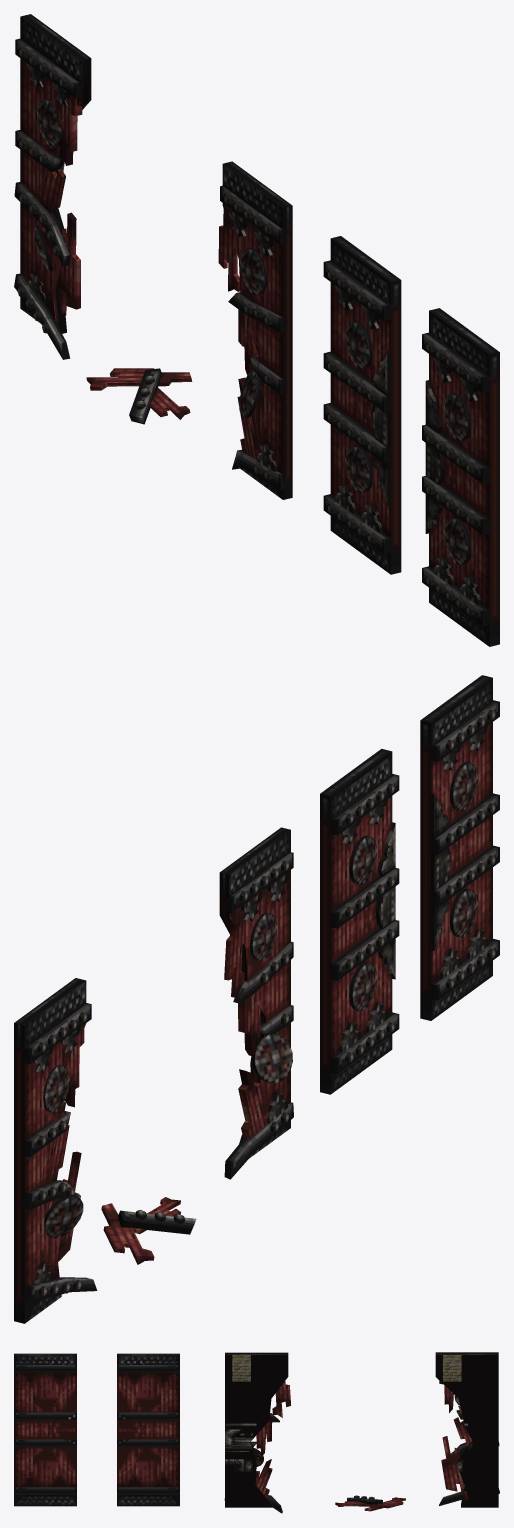
Rendered from EnvMdrMD_Desert_Gate_A_Door_Debris.FBX.
3 views of the same model, one above another, from view 1: azimuth 30°, elevation 25°; view 2: azimuth 150°, elevation 25°; view 3: azimuth 270°, elevation 25° (orthographic). The views are drawn at different scales.
Visible parts, largest first — view 1: EnvMdrMD_Desert_Gate_A_Door_R, EnvMdrMD_Desert_Gate_A_Door_L, EnvMdrMD_Desert_Gate_A_Door_R_Broken, EnvMdrMD_Desert_Gate_A_Door_L_Broken, EnvMdrMD_Desert_Gate_A_Door_Debris; view 2: EnvMdrMD_Desert_Gate_A_Door_L, EnvMdrMD_Desert_Gate_A_Door_R, EnvMdrMD_Desert_Gate_A_Door_L_Broken, EnvMdrMD_Desert_Gate_A_Door_R_Broken, EnvMdrMD_Desert_Gate_A_Door_Debris; view 3: EnvMdrMD_Desert_Gate_A_Door_L, EnvMdrMD_Desert_Gate_A_Door_R, EnvMdrMD_Desert_Gate_A_Door_R_Broken, EnvMdrMD_Desert_Gate_A_Door_L_Broken, EnvMdrMD_Desert_Gate_A_Door_Debris.
Boxes of the visible parts, x1,y1,x2,y2 form: EnvMdrMD_Desert_Gate_A_Door_R: (422, 308, 499, 646); EnvMdrMD_Desert_Gate_A_Door_L: (323, 236, 401, 574); EnvMdrMD_Desert_Gate_A_Door_R_Broken: (218, 161, 292, 499); EnvMdrMD_Desert_Gate_A_Door_L_Broken: (14, 14, 91, 359); EnvMdrMD_Desert_Gate_A_Door_Debris: (86, 368, 192, 424); EnvMdrMD_Desert_Gate_A_Door_L: (320, 748, 399, 1094); EnvMdrMD_Desert_Gate_A_Door_R: (420, 675, 499, 1020); EnvMdrMD_Desert_Gate_A_Door_L_Broken: (14, 978, 97, 1323); EnvMdrMD_Desert_Gate_A_Door_R_Broken: (219, 827, 293, 1179); EnvMdrMD_Desert_Gate_A_Door_Debris: (101, 1197, 196, 1264); EnvMdrMD_Desert_Gate_A_Door_L: (117, 1353, 179, 1506); EnvMdrMD_Desert_Gate_A_Door_R: (14, 1353, 76, 1506); EnvMdrMD_Desert_Gate_A_Door_R_Broken: (224, 1352, 290, 1513); EnvMdrMD_Desert_Gate_A_Door_L_Broken: (435, 1352, 499, 1507); EnvMdrMD_Desert_Gate_A_Door_Debris: (335, 1495, 405, 1511).
Bounding box in the file's own units: 109 × 415 × 1154.
1 material, 1 textured.
